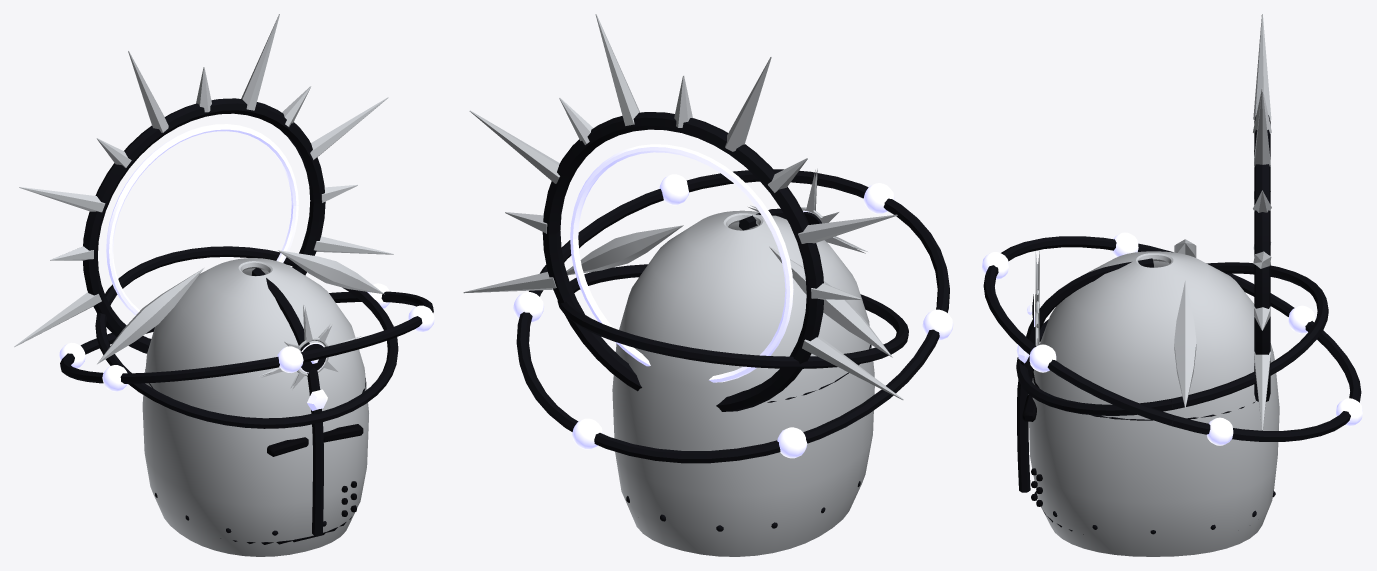
Rendered from esc_oblivion_warden_helm.glb.
The picture shows the model from 3 angles, left to right: view 1: azimuth 30°, elevation 25°; view 2: azimuth 150°, elevation 25°; view 3: azimuth 270°, elevation 25°; orthographic projection. The views are drawn at different scales.
Visible parts, largest first — view 1: esc_oblivion_warden_helm; view 2: esc_oblivion_warden_helm; view 3: esc_oblivion_warden_helm.
Part boxes in pixels (<box>): esc_oblivion_warden_helm: <box>14,14,434,556</box>; esc_oblivion_warden_helm: <box>463,14,953,556</box>; esc_oblivion_warden_helm: <box>982,14,1362,556</box>.
Size of the model in its own units: 0.7147 by 0.8015 by 0.593.
